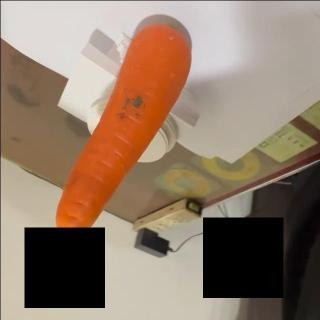carrot: (55, 23, 193, 239)
